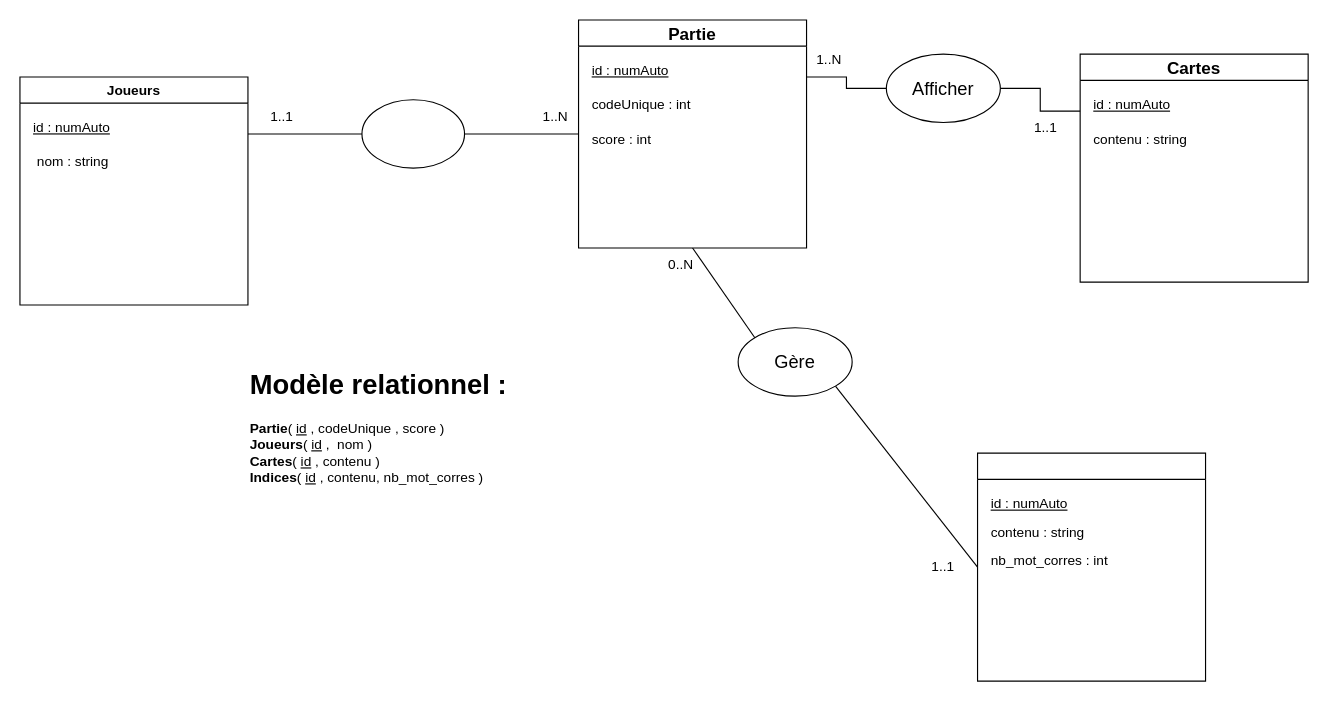
Image size: 1328x701. Some labels were removed from this diagram. The shapes that lost their labels are listed below. From the top down, each one's box as (x1, y1, x2, y2) in pixels, then its label:
(361, 99, 465, 168): Participe
(976, 452, 1206, 681): Indices
